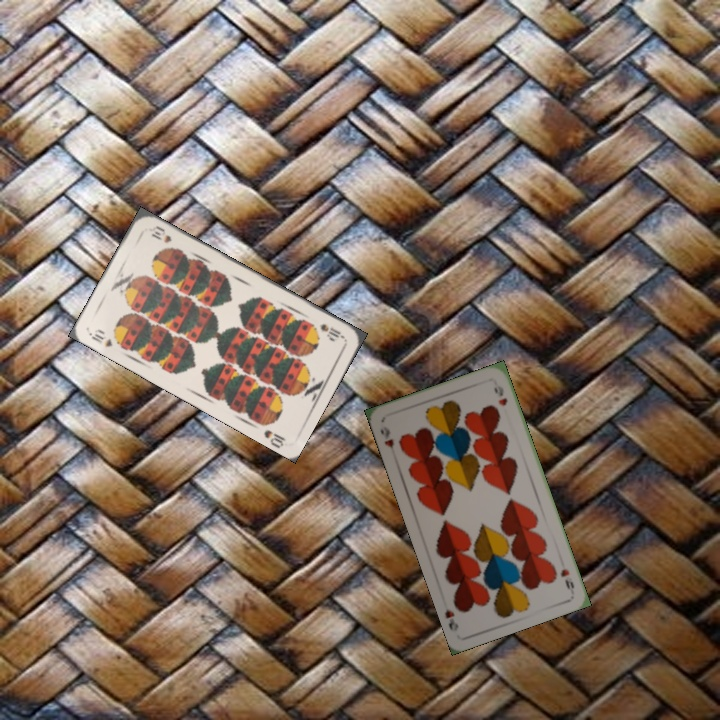H9: (376, 422, 398, 459), (556, 565, 577, 595)
S10: (86, 325, 115, 350), (315, 319, 347, 341)
